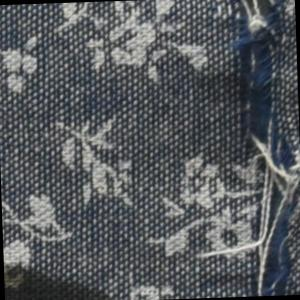Damage: (219, 1, 300, 298)
Stain: (4, 253, 118, 300)
